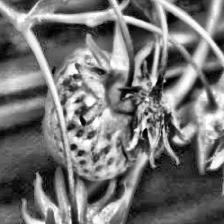Gray Mold: (112, 56, 193, 168)
